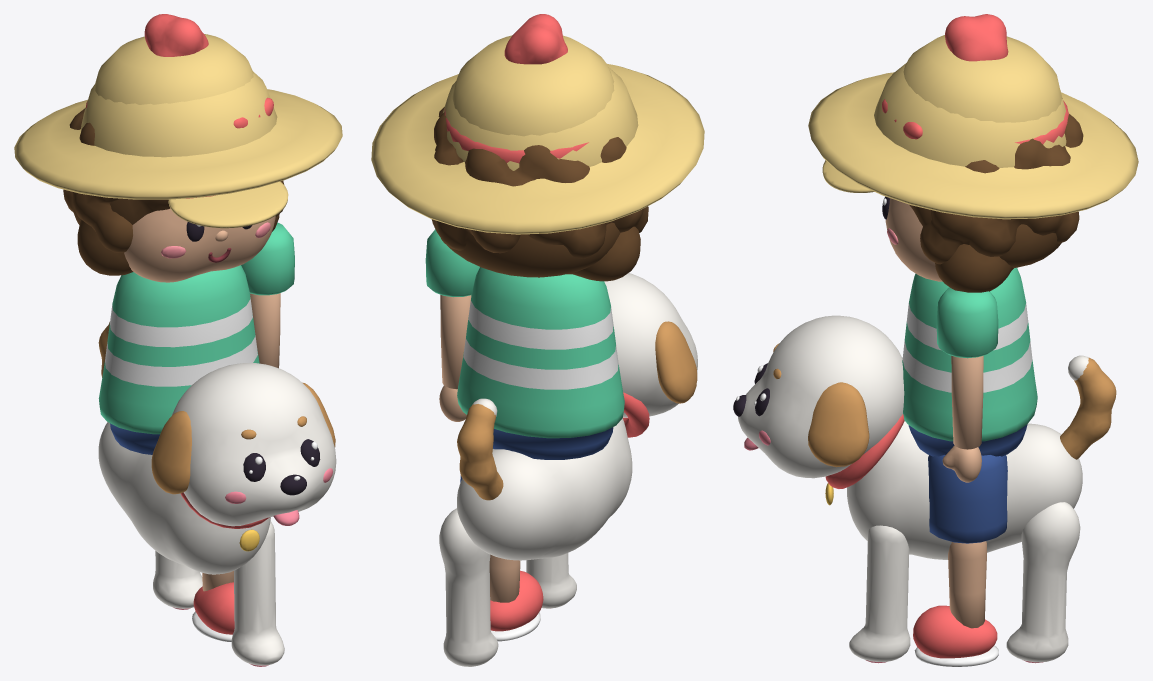
File: characters.glb
The picture shows the model from 3 angles, left to right: view 1: azimuth 30°, elevation 25°; view 2: azimuth 150°, elevation 25°; view 3: azimuth 270°, elevation 25°; orthographic projection.
Parts seen in each view (by area): view 1: person_hat_sun, dog_head, person_torso, person_hat_beanie, dog_body, person_head, dog_leg_front, person_arm, person_hat_cap, person_hair_curly, person_hair_bob, person_leg (+2 smaller); view 2: person_hat_sun, person_torso, dog_body, dog_head, person_hair_curly, person_hat_beanie, dog_leg_back, person_arm, person_hair_bun, person_leg, dog_tail, dog_leg_front (+2 smaller); view 3: person_hat_sun, dog_head, person_torso, dog_body, person_leg, person_hat_beanie, person_arm, dog_leg_back, person_hair_curly, dog_leg_front, dog_tail, person_hair_bob (+4 smaller).
Boxes of the visible parts, <box> form: person_hat_sun: <box>14,34,342,199</box>; dog_head: <box>151,363,336,526</box>; person_torso: <box>98,265,259,454</box>; person_hat_beanie: <box>81,14,277,198</box>; dog_body: <box>98,422,270,574</box>; person_head: <box>124,208,275,282</box>; dog_leg_front: <box>231,521,284,666</box>; person_arm: <box>241,222,294,368</box>; person_hat_cap: <box>168,181,288,228</box>; person_hair_curly: <box>63,108,284,252</box>; person_hair_bob: <box>77,198,279,275</box>; person_leg: <box>192,571,234,641</box>; person_hat_sun: <box>371,35,704,234</box>; person_torso: <box>457,267,624,459</box>; dog_body: <box>457,418,632,560</box>; dog_head: <box>604,273,697,417</box>; person_hair_curly: <box>434,107,648,258</box>; person_hat_beanie: <box>443,14,638,170</box>; dog_leg_back: <box>439,508,498,666</box>; person_arm: <box>425,229,479,421</box>; person_hair_bun: <box>431,219,620,277</box>; person_leg: <box>460,475,543,641</box>; dog_tail: <box>457,398,503,500</box>; dog_leg_front: <box>526,553,576,608</box>; person_hat_sun: <box>808,35,1138,219</box>; dog_head: <box>733,315,904,478</box>; person_torso: <box>902,267,1037,456</box>; dog_body: <box>847,421,1082,559</box>; person_leg: <box>913,455,1007,666</box>; person_hat_beanie: <box>874,14,1066,167</box>; person_arm: <box>936,287,998,482</box>; dog_leg_back: <box>1006,502,1080,663</box>; person_hair_curly: <box>920,98,1083,264</box>; dog_leg_front: <box>849,525,910,663</box>; dog_tail: <box>1060,355,1116,459</box>; person_hair_bob: <box>909,204,1013,292</box>.
Size of the model in its own units: 1.27 by 2.63 by 1.55.
